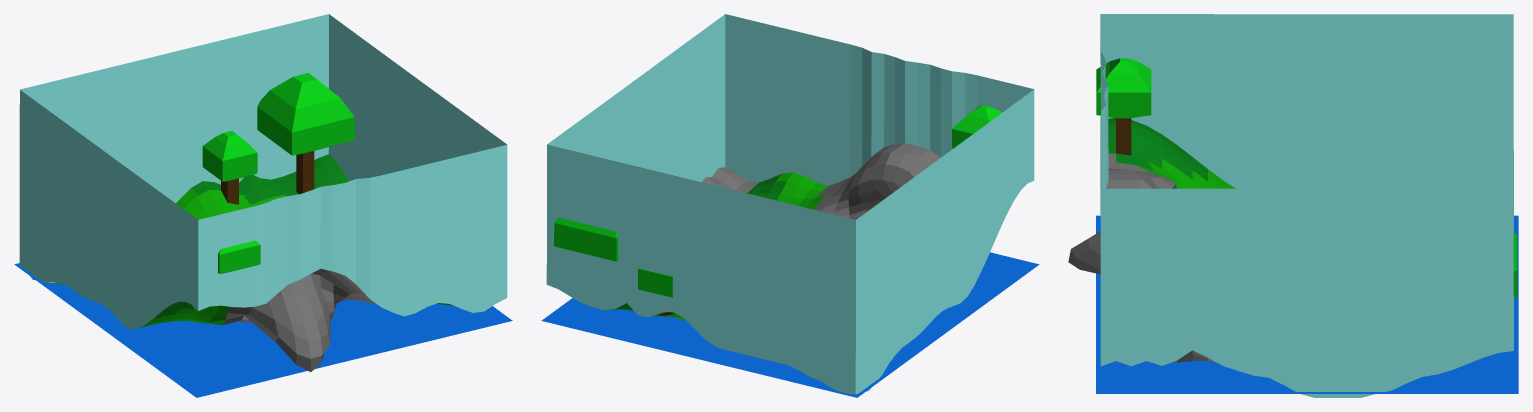
Rendered from Terrain.fbx.
The picture shows the model from 3 angles, left to right: view 1: azimuth 30°, elevation 25°; view 2: azimuth 150°, elevation 25°; view 3: azimuth 270°, elevation 25°; orthographic projection. The views are drawn at different scales.
Visible parts, largest first — view 1: Plane; view 2: Plane; view 3: Plane.
Boxes of the visible parts, x1,y1,x2,y2 form: Plane: [14, 14, 512, 397]; Plane: [541, 14, 1039, 397]; Plane: [1068, 14, 1518, 397].
Bounding box in the file's own units: 1726 × 1620 × 886.
